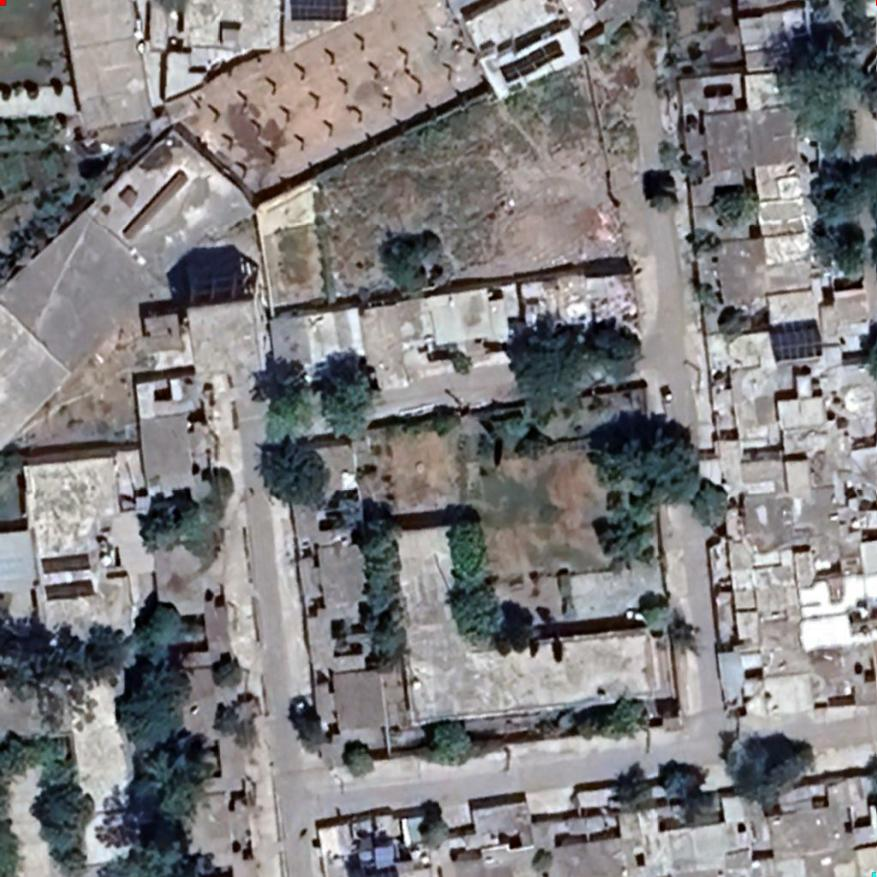Solarpanel: (490, 35, 570, 90), (760, 318, 828, 369), (38, 575, 101, 606), (38, 550, 97, 578)
